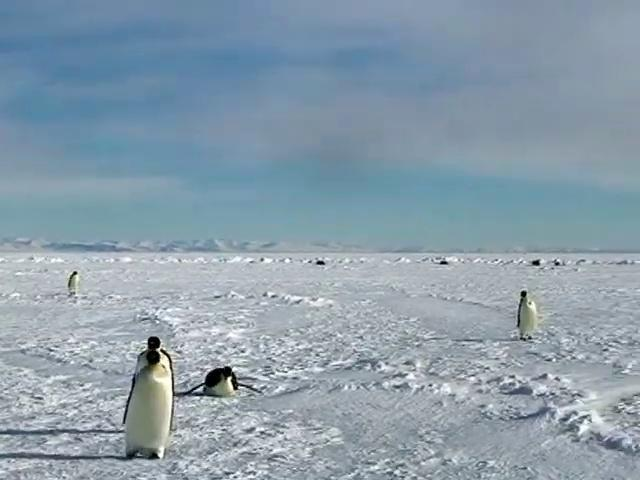animal: (178, 366, 260, 395)
